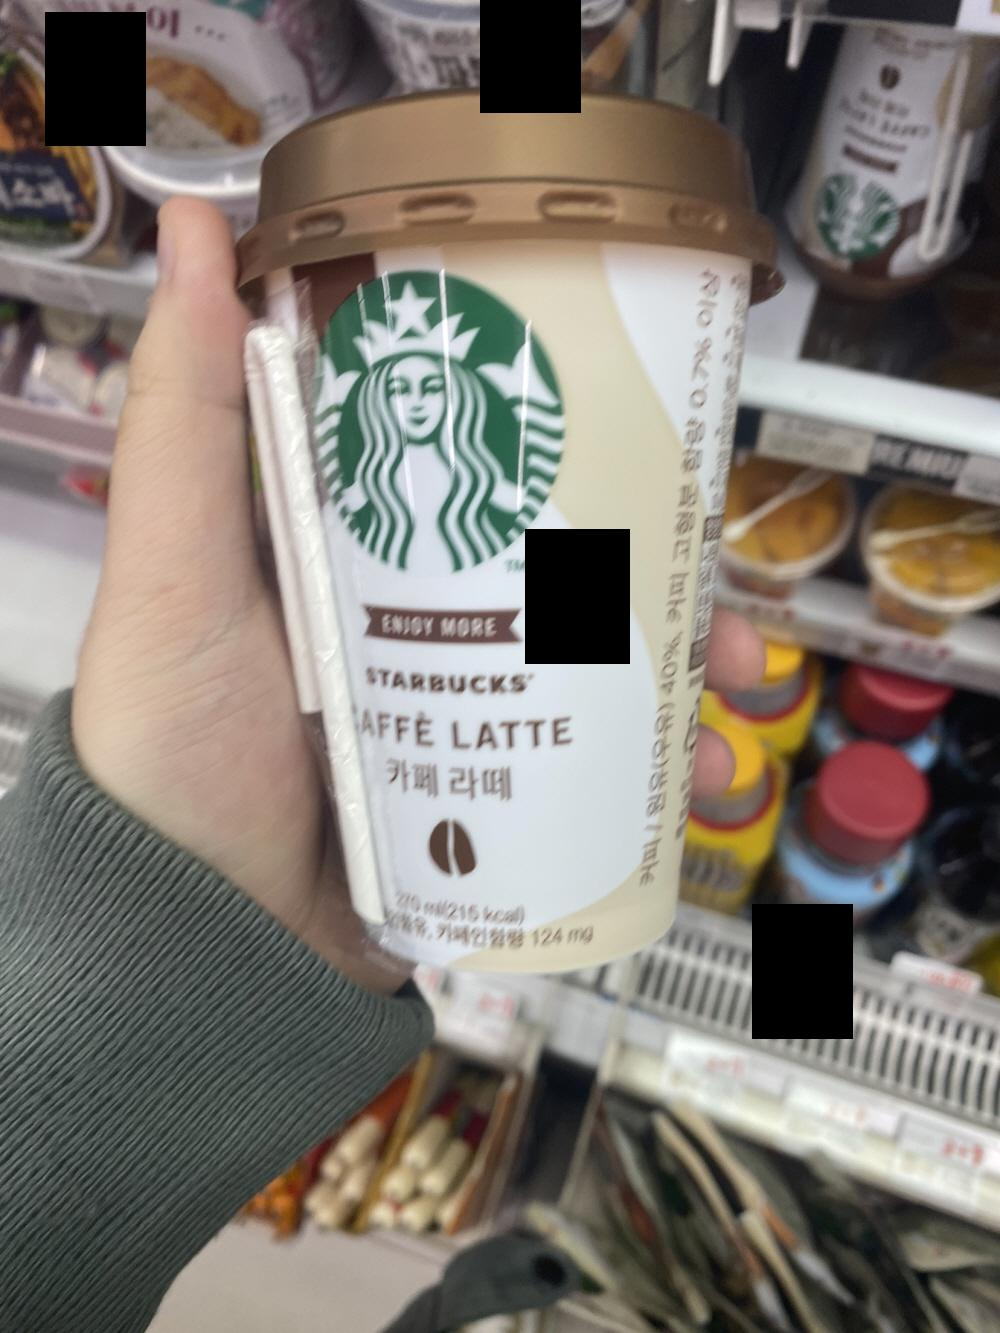starbucks_cafelatte: (238, 92, 759, 968)
